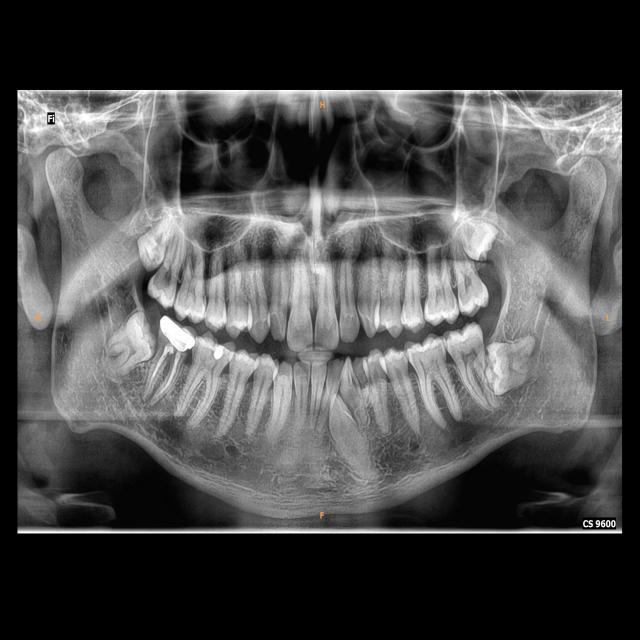dentin-curugu: (147, 266, 172, 290)
dolgu: (208, 342, 228, 366)
kanal-tedavisi: (146, 344, 178, 398)
kaplama: (157, 316, 195, 356)
